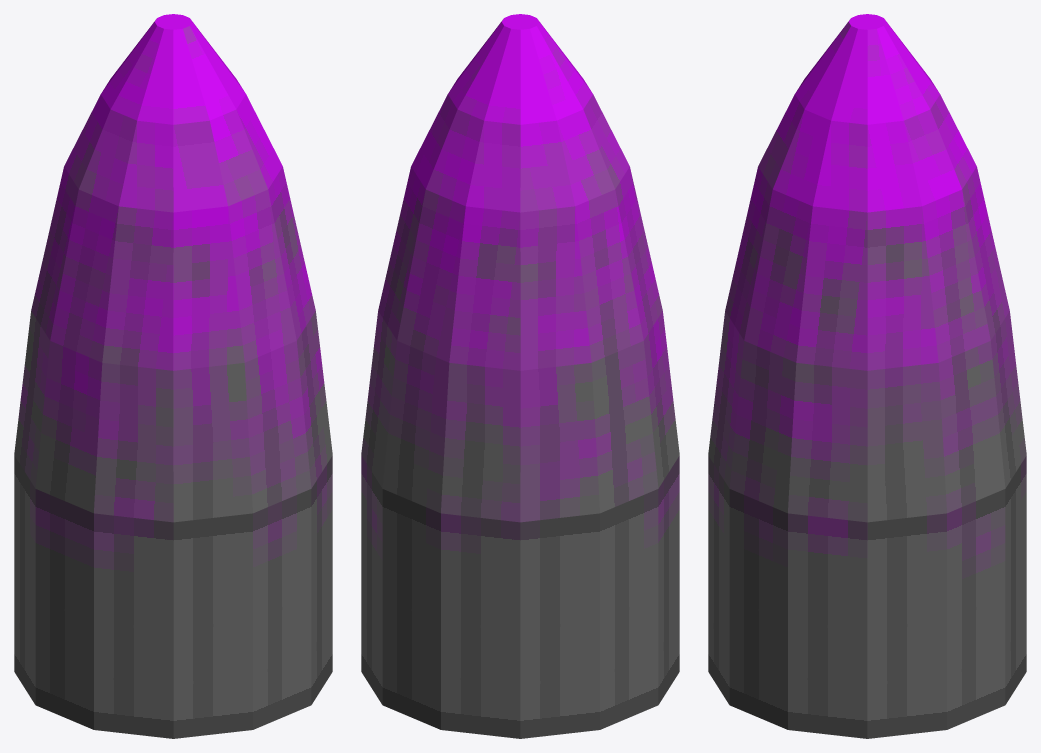
Rendered from mp_w_10_taint.obj.
The picture shows the model from 3 angles, left to right: view 1: azimuth 30°, elevation 25°; view 2: azimuth 150°, elevation 25°; view 3: azimuth 270°, elevation 25°; orthographic projection.
Visible parts, largest first — view 1: Cylinder; view 2: Cylinder; view 3: Cylinder.
Part boxes in pixels (x1=…): Cylinder: x1=14, y1=14, x2=332, y2=738; Cylinder: x1=361, y1=14, x2=679, y2=738; Cylinder: x1=708, y1=14, x2=1026, y2=738.
Bounding box in the file's own units: 1 × 2.25 × 1.
